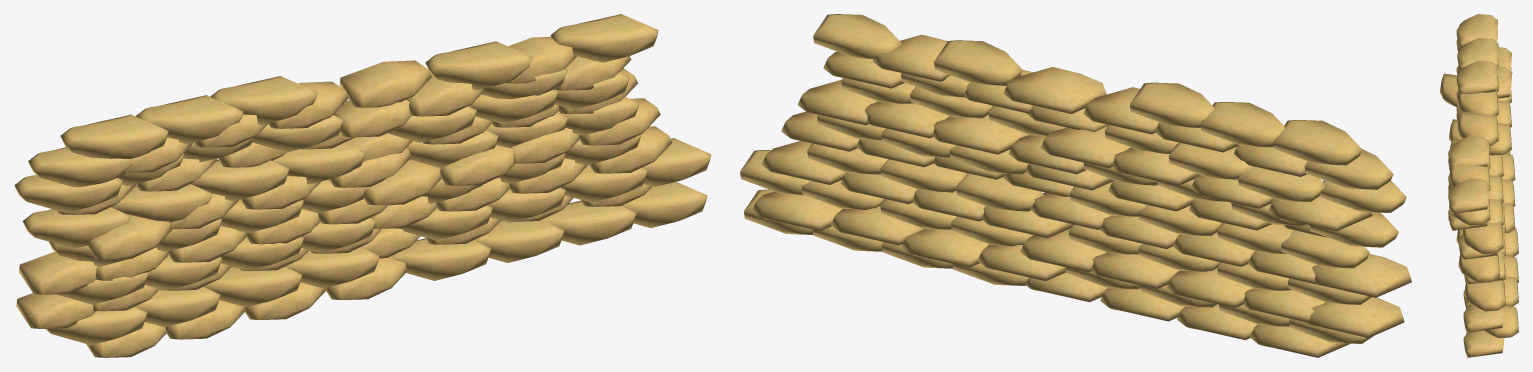
File: sandBag.obj
3 views of the same model, side by side, from view 1: azimuth 30°, elevation 25°; view 2: azimuth 150°, elevation 25°; view 3: azimuth 270°, elevation 25° (orthographic). The views are drawn at different scales.
Visible parts, largest first — view 1: Mesh40 Rock_Small_Brown40 Group1 Model, Mesh58 Rock_Small_Brown58 Group1 Model, Mesh79 Rock_Small_Brown79 Group1 Model, Mesh50 Rock_Small_Brown50 Group1 Model, Mesh32 Rock_Small_Brown32 Group1 Model, Mesh6 Rock_Small_Brown6 Group1 Model, Mesh56 Rock_Small_Brown56 Group1 Model, Mesh77 Rock_Small_Brown77 Group1 Model, Mesh33 Rock_Small_Brown33 Group1 Model, Mesh21 Rock_Small_Brown21 Group1 Model, Mesh87 Rock_Small_Brown87 Group1 Model, Mesh30 Rock_Small_Brown30 Group1 Model (+73 smaller); view 2: Mesh32 Rock_Small_Brown32 Group1 Model, Mesh40 Rock_Small_Brown40 Group1 Model, Mesh79 Rock_Small_Brown79 Group1 Model, Mesh58 Rock_Small_Brown58 Group1 Model, Mesh50 Rock_Small_Brown50 Group1 Model, Mesh6 Rock_Small_Brown6 Group1 Model, Mesh1 Rock_Small_Brown1 Group1 Model, Mesh84 Rock_Small_Brown84 Group1 Model, Mesh28 Rock_Small_Brown28 Group1 Model, Mesh20 Rock_Small_Brown20 Group1 Model, Mesh78 Rock_Small_Brown78 Group1 Model, Mesh76 Rock_Small_Brown76 Group1 Model (+76 smaller); view 3: Mesh58 Rock_Small_Brown58 Group1 Model, Mesh6 Rock_Small_Brown6 Group1 Model, Mesh79 Rock_Small_Brown79 Group1 Model, Mesh13 Rock_Small_Brown13 Group1 Model, Mesh32 Rock_Small_Brown32 Group1 Model, Mesh62 Rock_Small_Brown62 Group1 Model, Mesh40 Rock_Small_Brown40 Group1 Model, Mesh37 Rock_Small_Brown37 Group1 Model, Mesh50 Rock_Small_Brown50 Group1 Model, Mesh82 Rock_Small_Brown82 Group1 Model, Mesh4 Rock_Small_Brown4 Group1 Model, Mesh71 Rock_Small_Brown71 Group1 Model (+22 smaller).
Part boxes in pixels (x1=…): Mesh40 Rock_Small_Brown40 Group1 Model: x1=60, y1=114, x2=168, y2=158; Mesh58 Rock_Small_Brown58 Group1 Model: x1=550, y1=14, x2=658, y2=62; Mesh79 Rock_Small_Brown79 Group1 Model: x1=425, y1=41, x2=533, y2=90; Mesh50 Rock_Small_Brown50 Group1 Model: x1=135, y1=95, x2=243, y2=143; Mesh32 Rock_Small_Brown32 Group1 Model: x1=339, y1=60, x2=431, y2=107; Mesh6 Rock_Small_Brown6 Group1 Model: x1=210, y1=76, x2=317, y2=124; Mesh56 Rock_Small_Brown56 Group1 Model: x1=23, y1=207, x2=130, y2=248; Mesh77 Rock_Small_Brown77 Group1 Model: x1=391, y1=238, x2=490, y2=280; Mesh33 Rock_Small_Brown33 Group1 Model: x1=28, y1=147, x2=134, y2=187; Mesh21 Rock_Small_Brown21 Group1 Model: x1=203, y1=266, x2=302, y2=307; Mesh87 Rock_Small_Brown87 Group1 Model: x1=541, y1=200, x2=636, y2=245; Mesh30 Rock_Small_Brown30 Group1 Model: x1=474, y1=220, x2=564, y2=262; Mesh32 Rock_Small_Brown32 Group1 Model: x1=1003, y1=67, x2=1106, y2=113; Mesh40 Rock_Small_Brown40 Group1 Model: x1=1273, y1=120, x2=1362, y2=165; Mesh79 Rock_Small_Brown79 Group1 Model: x1=934, y1=40, x2=1022, y2=85; Mesh58 Rock_Small_Brown58 Group1 Model: x1=813, y1=14, x2=901, y2=58; Mesh50 Rock_Small_Brown50 Group1 Model: x1=1200, y1=101, x2=1285, y2=147; Mesh6 Rock_Small_Brown6 Group1 Model: x1=1130, y1=82, x2=1214, y2=127; Mesh1 Rock_Small_Brown1 Group1 Model: x1=1312, y1=254, x2=1411, y2=297; Mesh84 Rock_Small_Brown84 Group1 Model: x1=1307, y1=297, x2=1404, y2=337; Mesh28 Rock_Small_Brown28 Group1 Model: x1=933, y1=114, x2=1029, y2=154; Mesh20 Rock_Small_Brown20 Group1 Model: x1=752, y1=191, x2=841, y2=231; Mesh78 Rock_Small_Brown78 Group1 Model: x1=1040, y1=126, x2=1129, y2=168; Mesh76 Rock_Small_Brown76 Group1 Model: x1=901, y1=228, x2=988, y2=267; Mesh58 Rock_Small_Brown58 Group1 Model: x1=1448, y1=178, x2=1489, y2=214; Mesh6 Rock_Small_Brown6 Group1 Model: x1=1456, y1=60, x2=1497, y2=94; Mesh79 Rock_Small_Brown79 Group1 Model: x1=1448, y1=136, x2=1489, y2=166; Mesh13 Rock_Small_Brown13 Group1 Model: x1=1464, y1=280, x2=1505, y2=311; Mesh32 Rock_Small_Brown32 Group1 Model: x1=1457, y1=111, x2=1498, y2=145; Mesh62 Rock_Small_Brown62 Group1 Model: x1=1462, y1=222, x2=1503, y2=254; Mesh40 Rock_Small_Brown40 Group1 Model: x1=1456, y1=14, x2=1497, y2=48; Mesh37 Rock_Small_Brown37 Group1 Model: x1=1458, y1=254, x2=1499, y2=282; Mesh50 Rock_Small_Brown50 Group1 Model: x1=1457, y1=38, x2=1498, y2=69; Mesh82 Rock_Small_Brown82 Group1 Model: x1=1463, y1=330, x2=1504, y2=357; Mesh4 Rock_Small_Brown4 Group1 Model: x1=1463, y1=304, x2=1504, y2=332; Mesh71 Rock_Small_Brown71 Group1 Model: x1=1457, y1=90, x2=1498, y2=115.
Bounding box in the file's own units: 140 × 44.33 × 21.22.
Materials: 1 (1 with a texture image).
